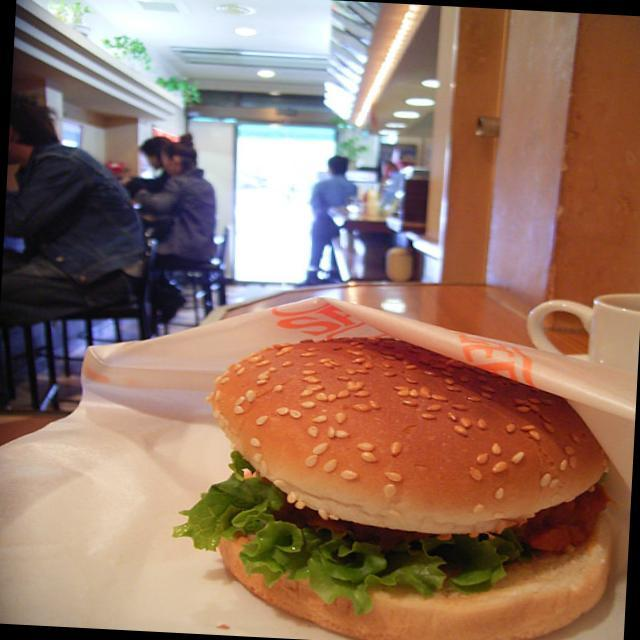Hamburger: (150, 303, 640, 640)
